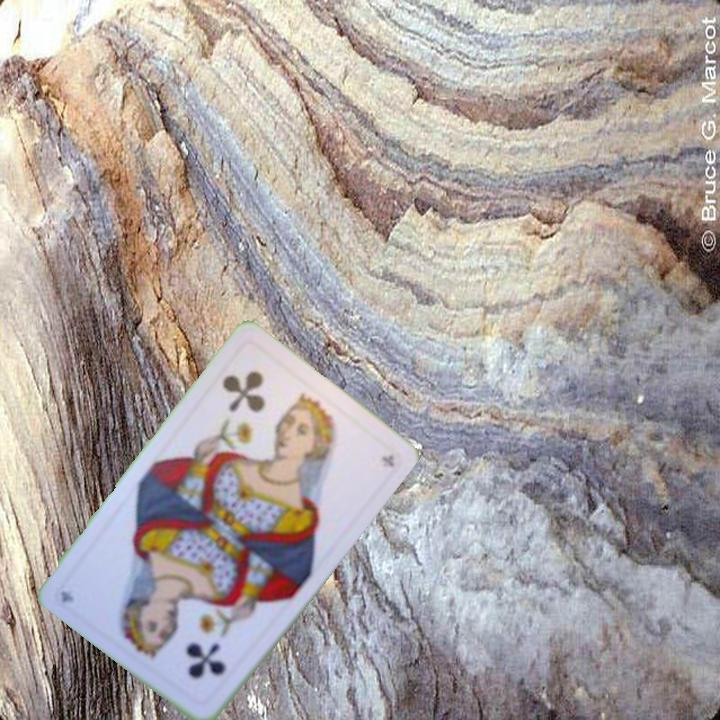c_q.png: (197, 338, 326, 465), (128, 583, 257, 709)
